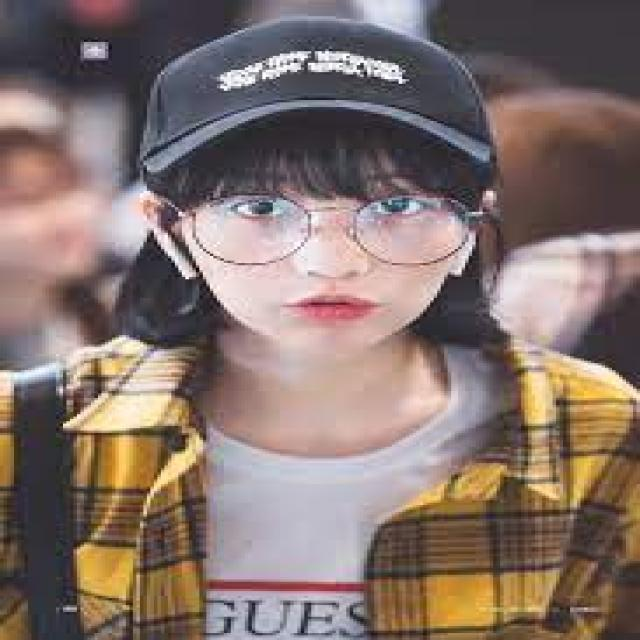earphone: (142, 186, 206, 298), (441, 191, 500, 285)
